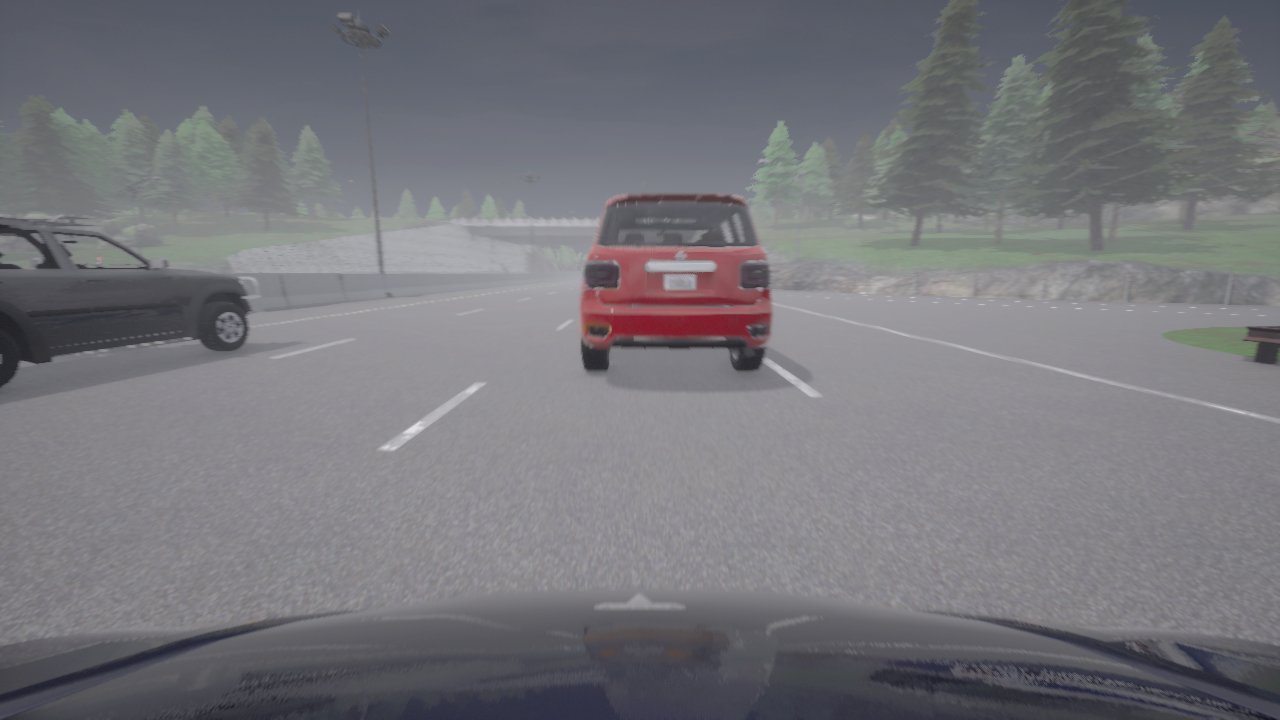cyclist: (0, 588, 1279, 719), (0, 215, 262, 388), (578, 193, 773, 371)
